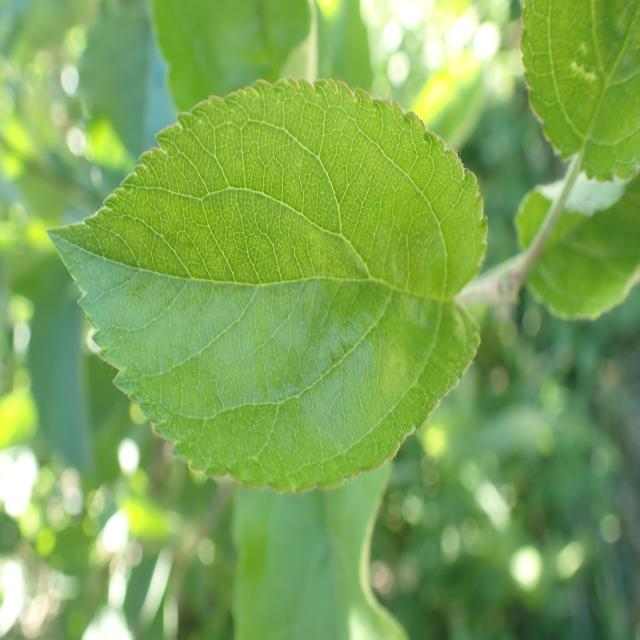healthy: (45, 77, 489, 495), (519, 0, 640, 183), (514, 174, 640, 321)
